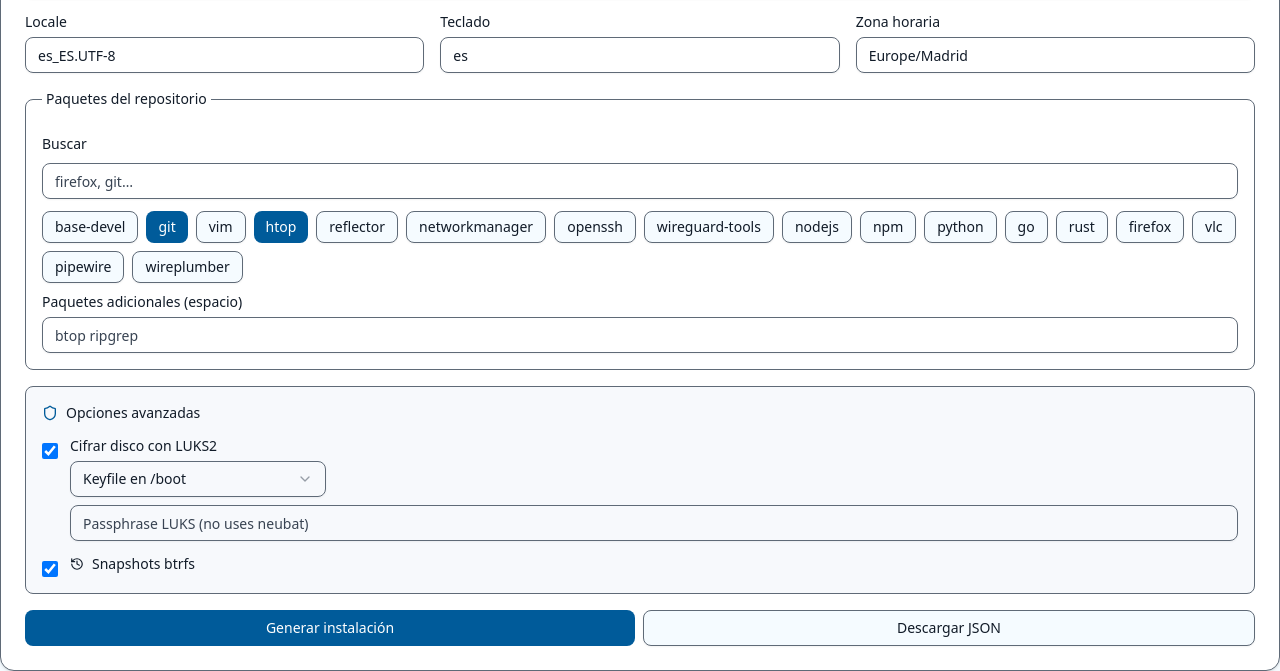
ConfigurePage › si el portal no responde, pasa a modo local
(page scrolled)
Click the button "Generar instalación". click: (330, 628)
box: [25, 610, 635, 646]
(page scrolled)
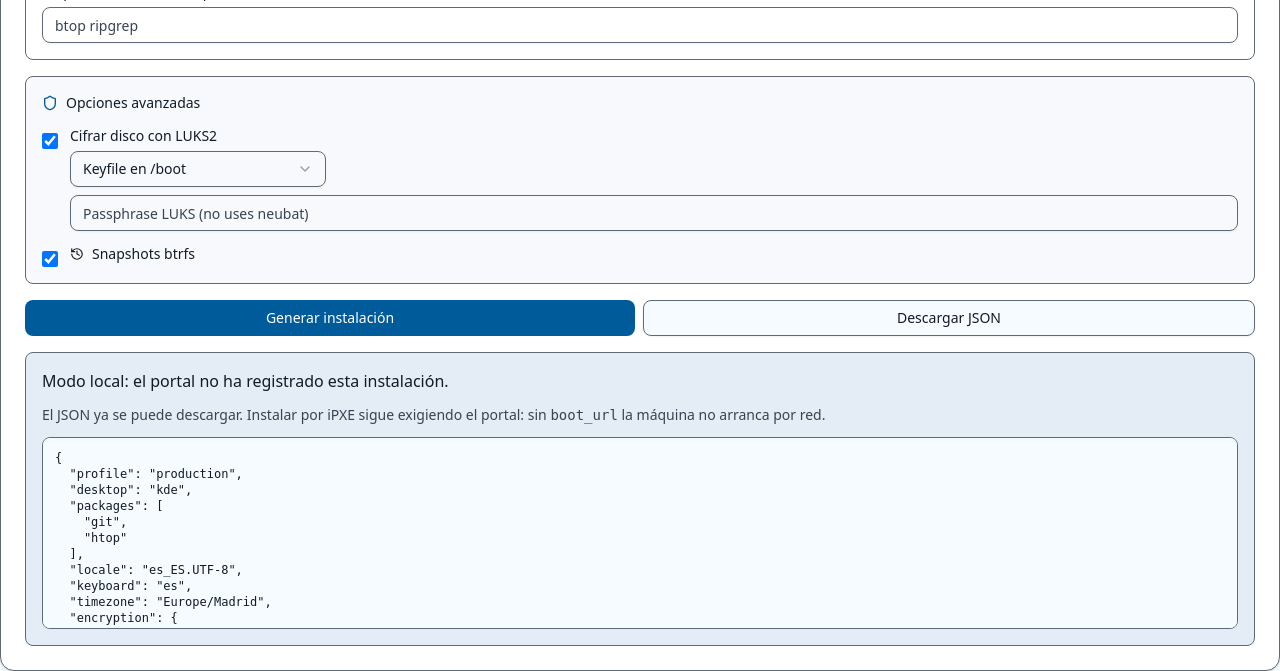
Check: the text "Modo local: el portal no ha registrado esta instalación." is shown, box [42, 370, 449, 392]
